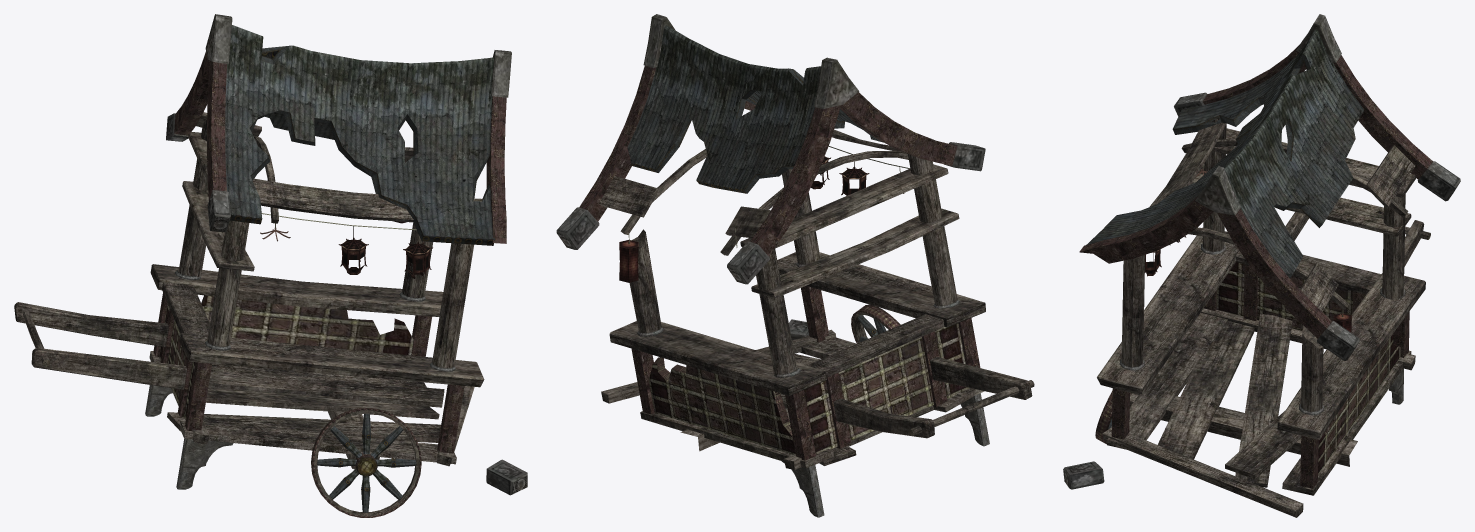
File: TW2_9_ADDONS_12_12-transformed.glb
The picture shows the model from 3 angles, left to right: view 1: azimuth 30°, elevation 25°; view 2: azimuth 150°, elevation 25°; view 3: azimuth 270°, elevation 25°; orthographic projection. The views are drawn at different scales.
Parts seen in each view (by area): view 1: default; view 2: default; view 3: default.
Part boxes in pixels (box(x1,y1,x2,y2)): default: box(14, 14, 527, 517); default: box(556, 14, 1034, 517); default: box(1063, 14, 1460, 517).
Size of the model in its own units: 4.1 by 3.72 by 3.3.
6 materials, 6 textured.
